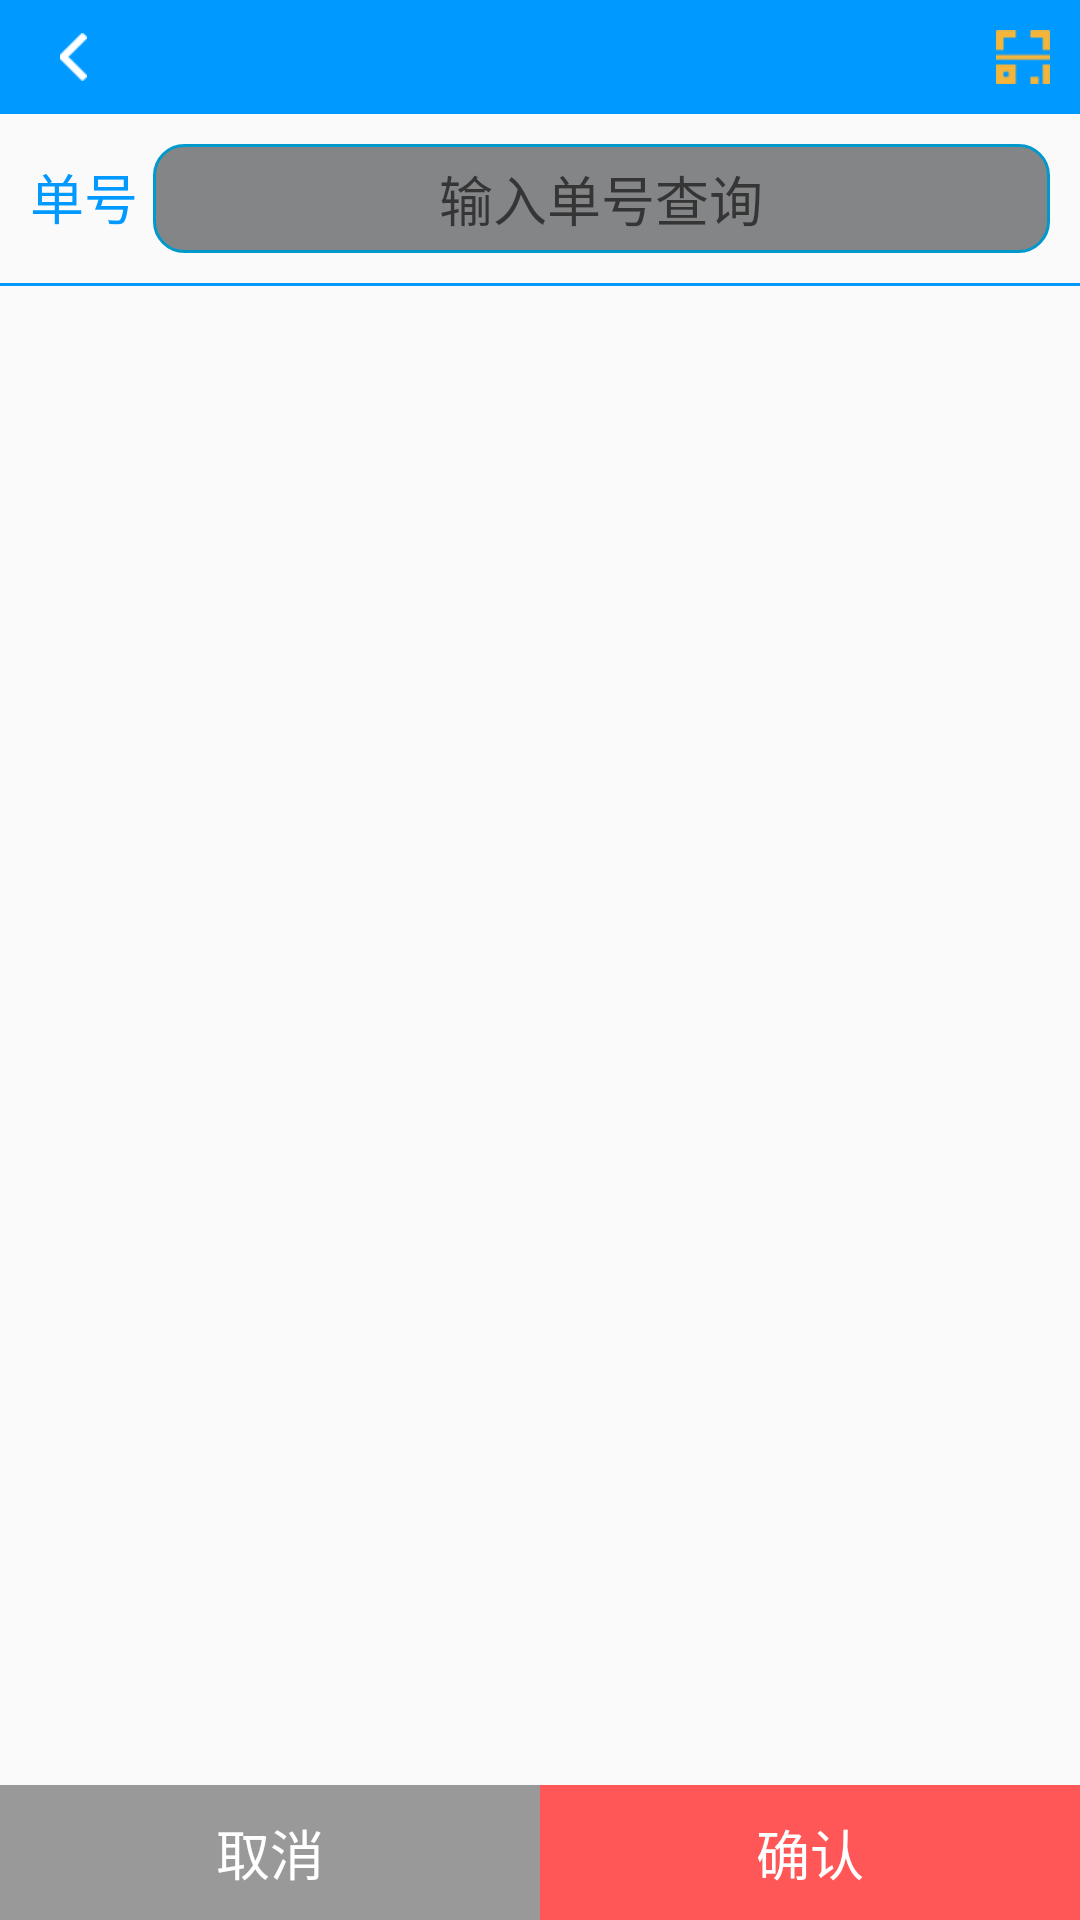

Where icons sit on this 1080x1920 app screen, as (x1, y1, x2, y2):
back: (60, 33, 87, 81)
scany: (996, 30, 1050, 84)
